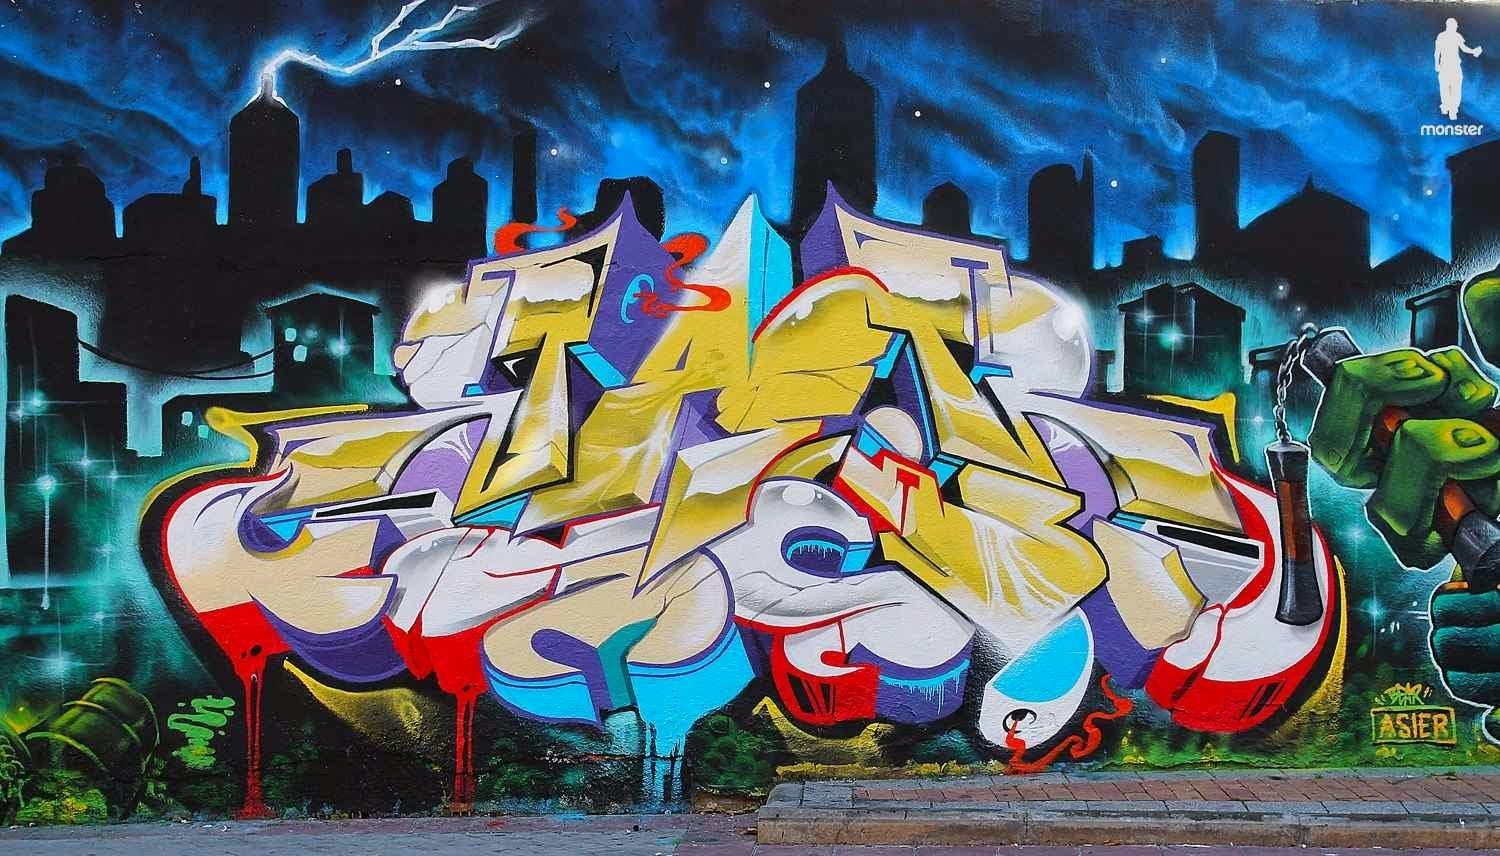graphite: (5, 7, 1500, 788)
